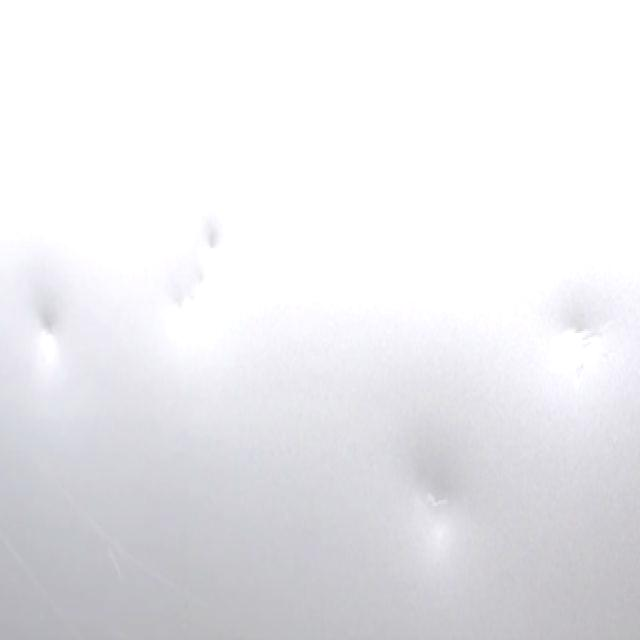dent: (135, 198, 223, 382), (386, 430, 467, 549), (23, 303, 74, 382), (546, 307, 595, 386)
